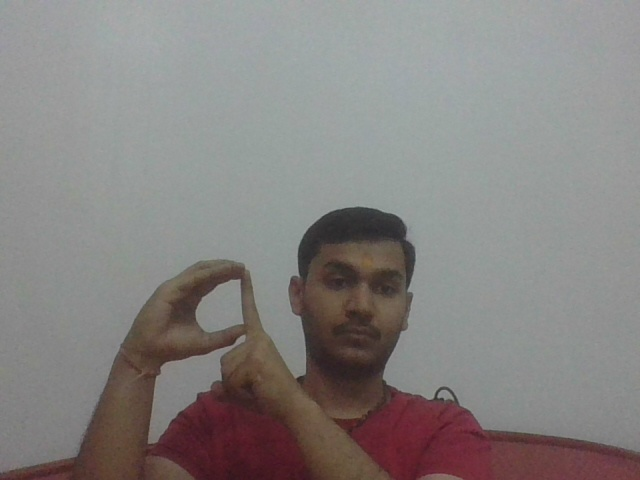D: (126, 256, 282, 407)
